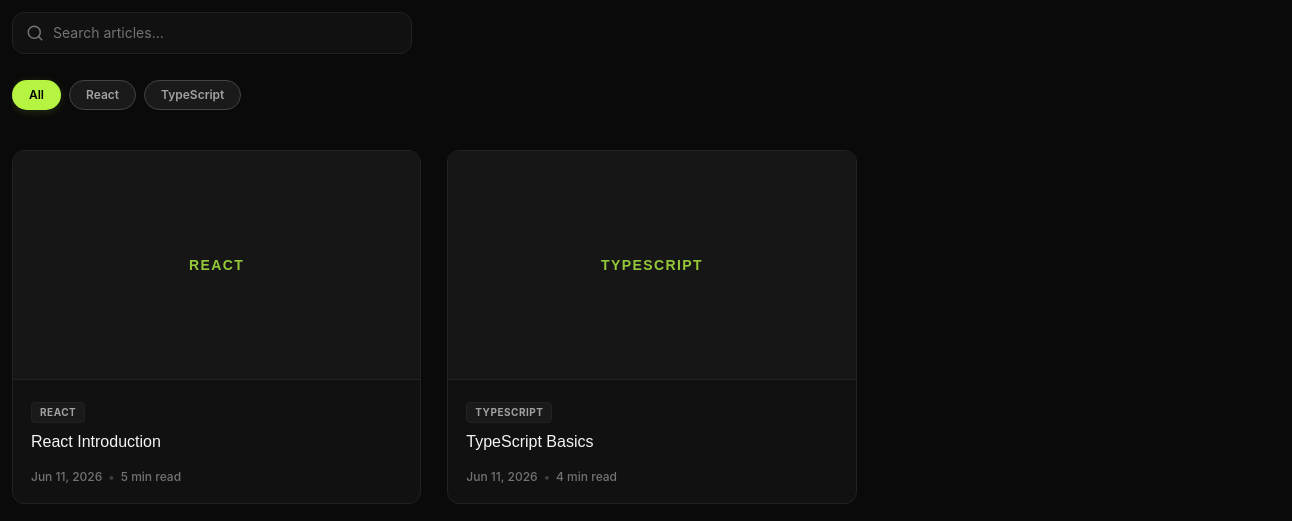
BlogGrid › renders empty state when no blogs match, and allows clearing filters
The image size is (1292, 521).
Type "NonExistentQuery" into the field with placeholder "Search articles...".
click(212, 33); type("NonExistentQuery")  # box [12,12,412,54]
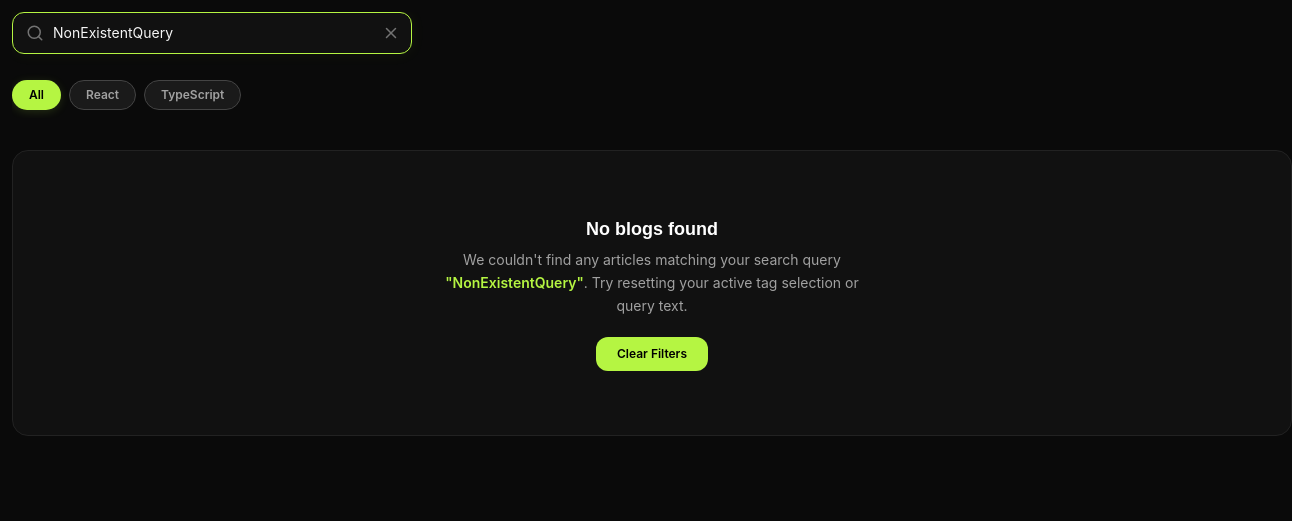
Result: the heading "No blogs found" is shown at [586,219,718,239]
Result: the button "Clear Filters" is shown
Click the button "Clear Filters".
click(652, 354)  # box [596,337,708,371]
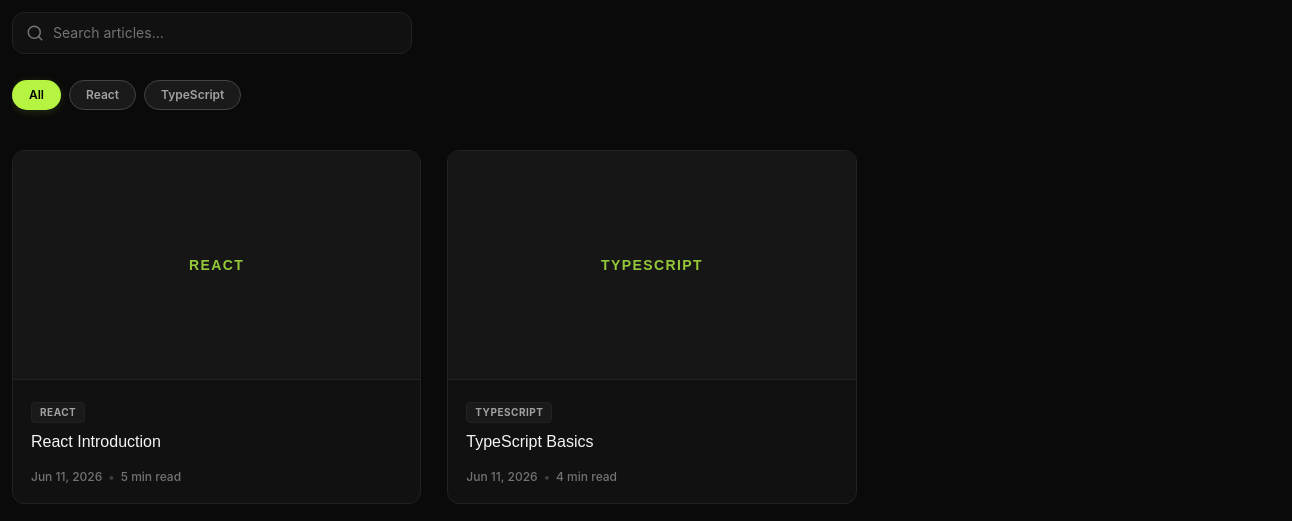
Result: the heading "React Introduction" is shown at [31,433,161,450]
Result: the heading "TypeScript Basics" is shown at [466,433,594,450]
